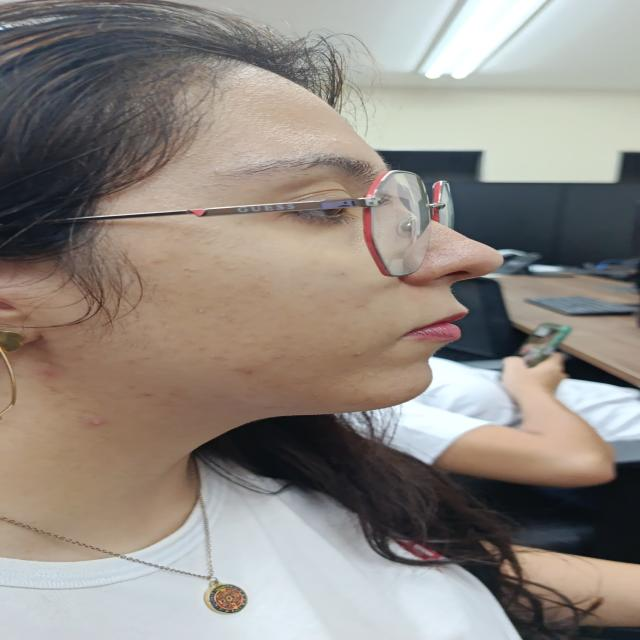sem_oculos: (58, 171, 454, 277)
